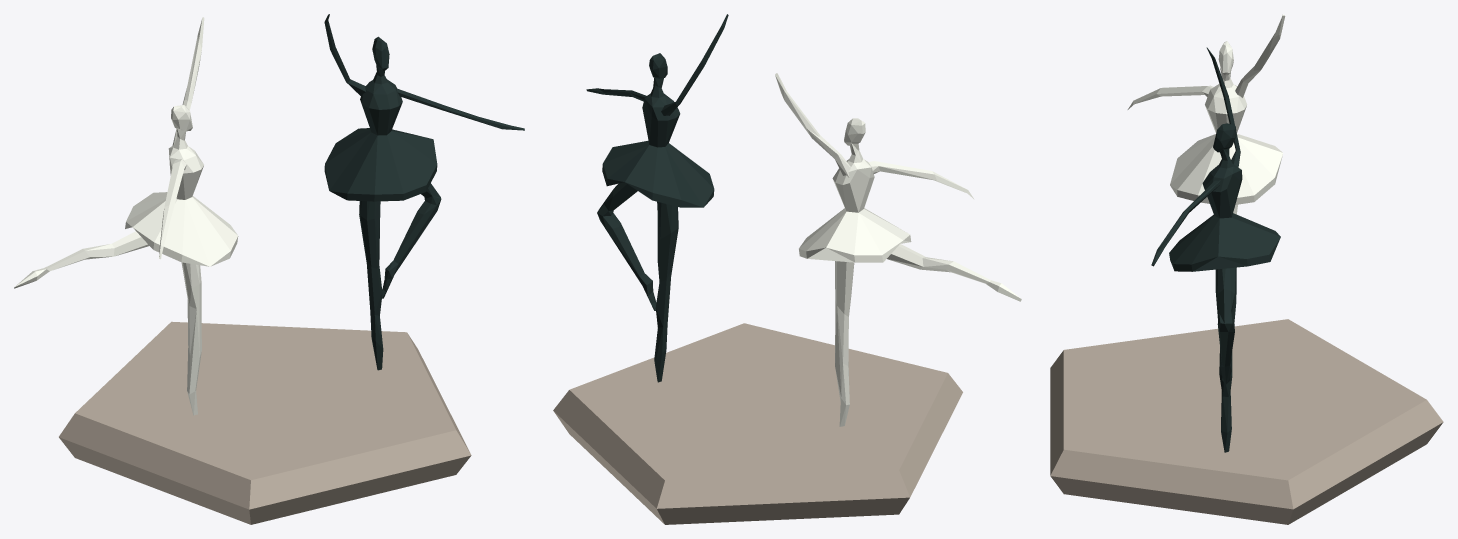
The model's file is Statue_A.fbx.
3 renders of one model, left to right at view 1: azimuth 30°, elevation 25°; view 2: azimuth 150°, elevation 25°; view 3: azimuth 270°, elevation 25°, orthographic.
Visible parts, largest first — view 1: Statue_A; view 2: Statue_A; view 3: Statue_A.
Part boxes in pixels (box(x1,y1,x2,y2)): Statue_A: box(14, 14, 524, 524); Statue_A: box(553, 14, 1021, 524); Statue_A: box(1050, 14, 1443, 524).
Size of the model in its own units: 212 by 180 by 153.
